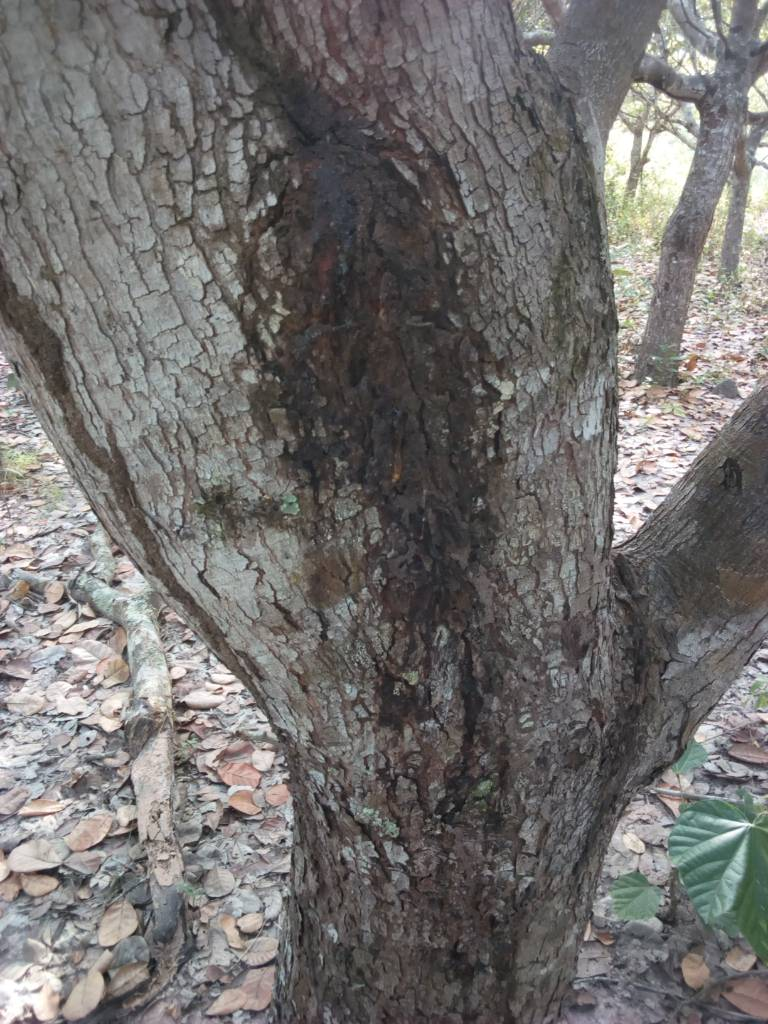Gommose: (277, 122, 486, 594)
